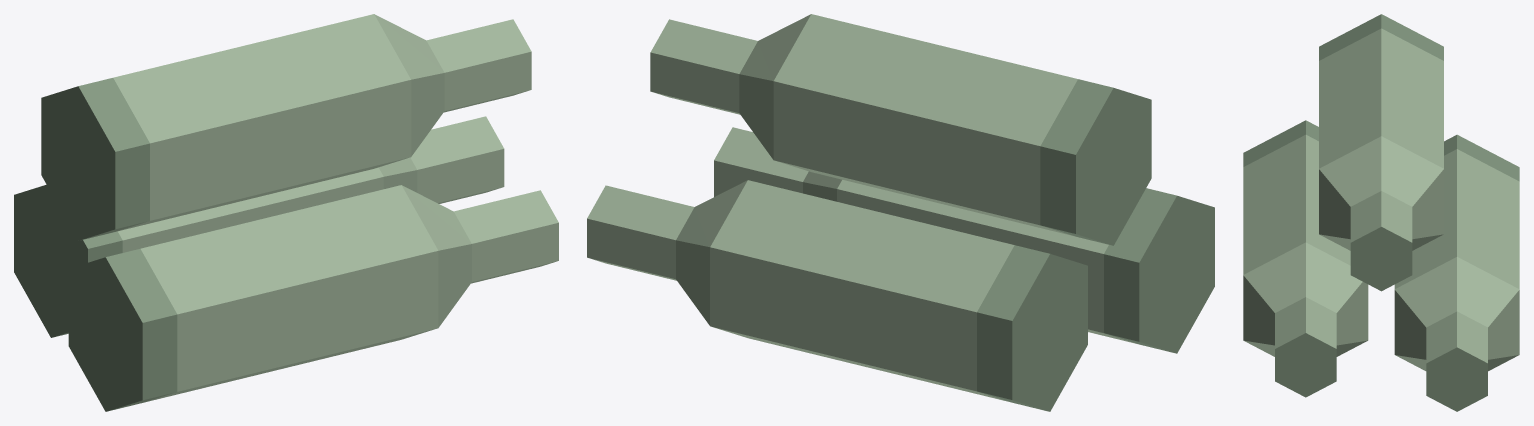
File: item_shell_firefoam_b.obj
3 views of the same model, side by side, from view 1: azimuth 30°, elevation 25°; view 2: azimuth 150°, elevation 25°; view 3: azimuth 270°, elevation 25° (orthographic). The views are drawn at different scales.
Size of the model in its own units: 0.6966 by 0.4092 by 0.4196.
